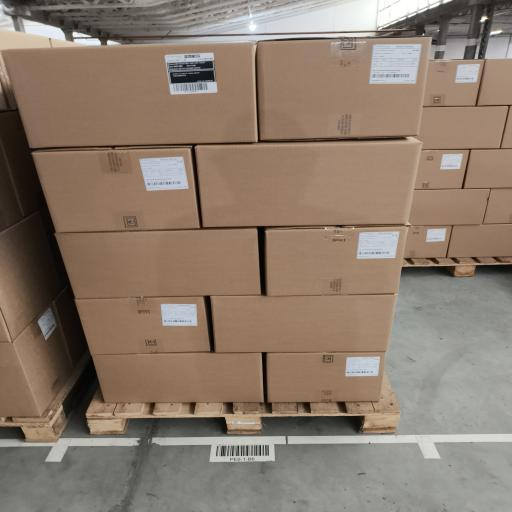pallet: (86, 375, 400, 434), (0, 351, 95, 442), (403, 257, 511, 276)
